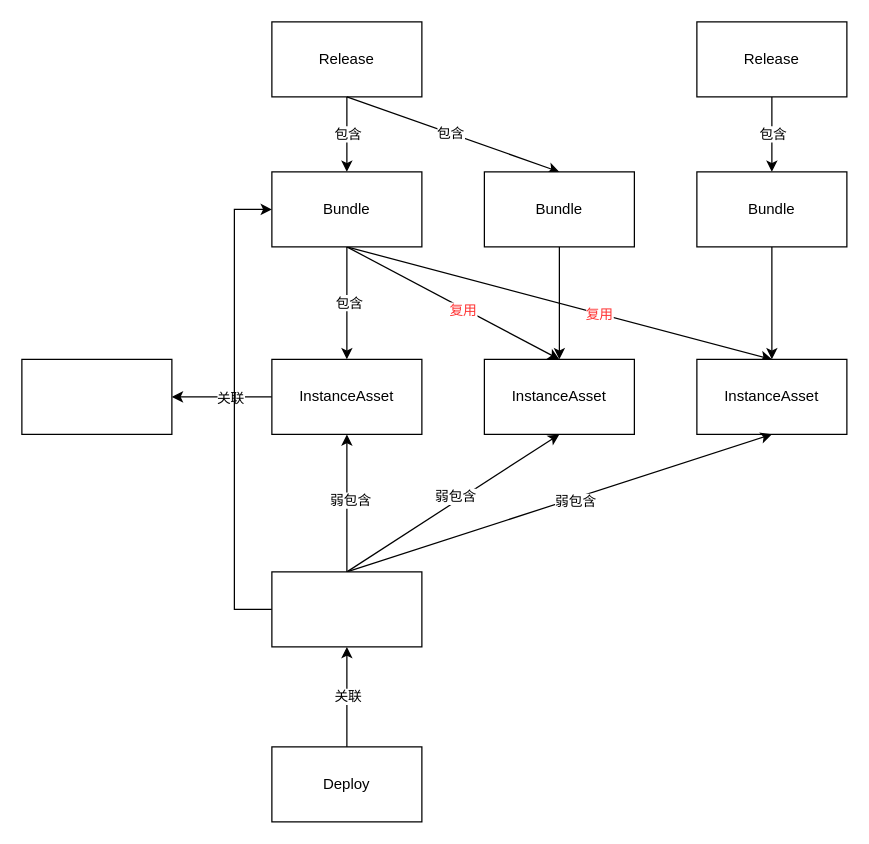
This 869x844 diagram has some shape labels left out. The box of each missing label's shape, as (x1, y1, x2, y2) in pixels:
ComponentInstance: (21, 358, 172, 434)
DeployManifest: (271, 571, 422, 647)
